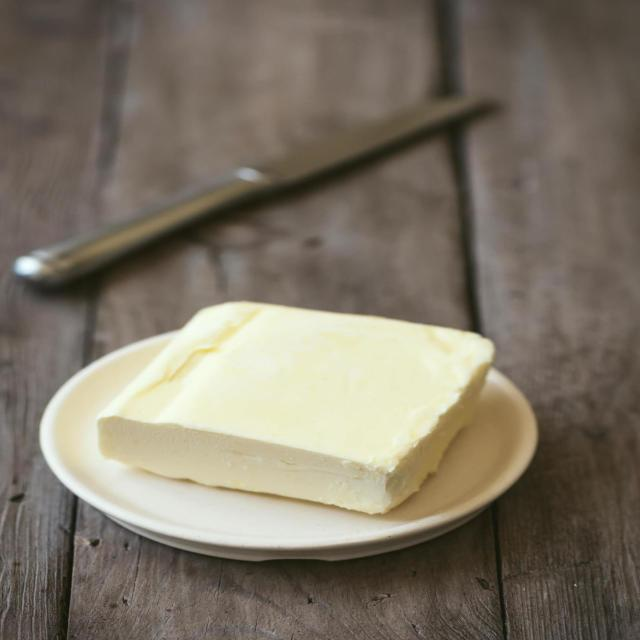Butter: (98, 300, 496, 514)
